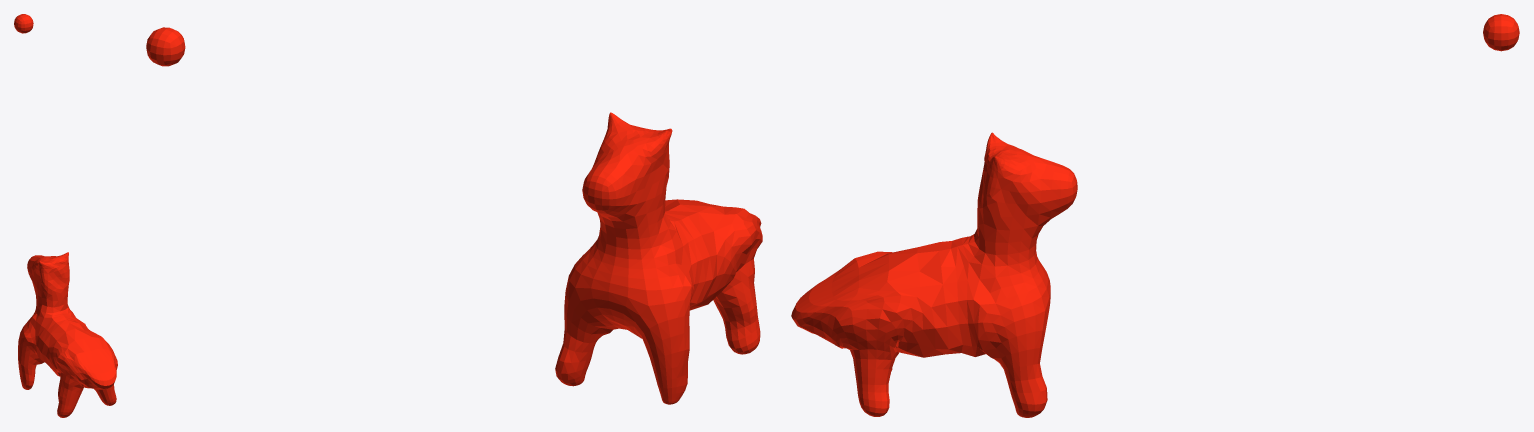
File: llama.dae
3 renders of one model, left to right at view 1: azimuth 30°, elevation 25°; view 2: azimuth 150°, elevation 25°; view 3: azimuth 270°, elevation 25°, orthographic. The views are drawn at different scales.
Visible parts, largest first — view 1: Plane; view 2: Plane; view 3: Plane.
Part boxes in pixels (x1,y1,x2,y2): Plane: (14, 14, 117, 417); Plane: (146, 27, 762, 404); Plane: (791, 14, 1519, 417).
Size of the model in its own units: 0.2487 by 0.4254 by 0.5896.
